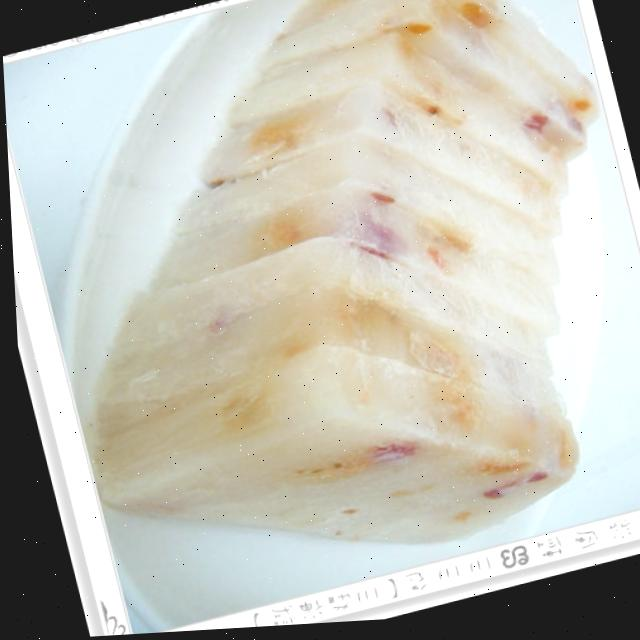蛋糕甜品: (41, 0, 640, 623)
